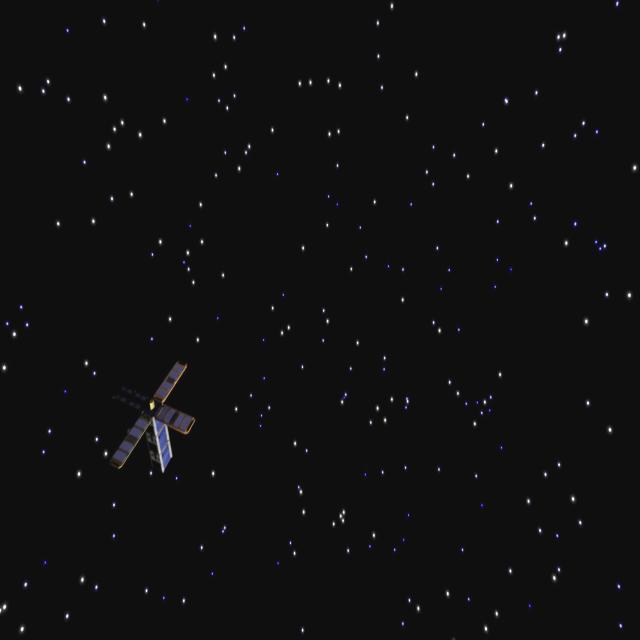satellite: (98, 356, 200, 484)
